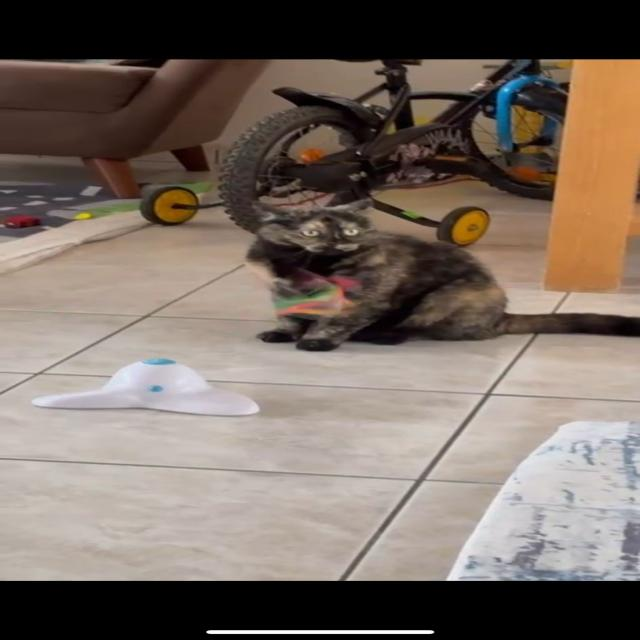authorized: (242, 198, 638, 352)
